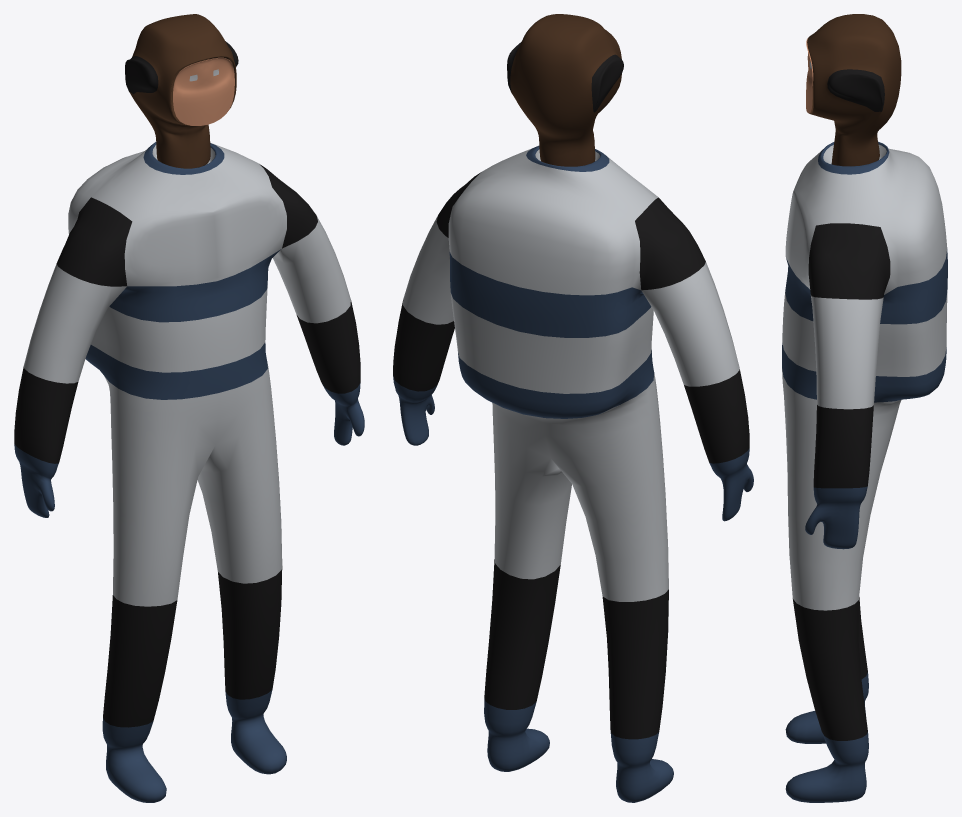
The model's file is kanta_006.fbx.
3 views of the same model, side by side, from view 1: azimuth 30°, elevation 25°; view 2: azimuth 150°, elevation 25°; view 3: azimuth 270°, elevation 25° (orthographic). The views are drawn at different scales.
Parts seen in each view (by area): view 1: Kanta; view 2: Kanta; view 3: Kanta.
Boxes of the visible parts, x1,y1,x2,y2 form: Kanta: (14, 14, 364, 802); Kanta: (393, 14, 753, 802); Kanta: (782, 14, 947, 802).
Size of the model in its own units: 260 by 551 by 111.
